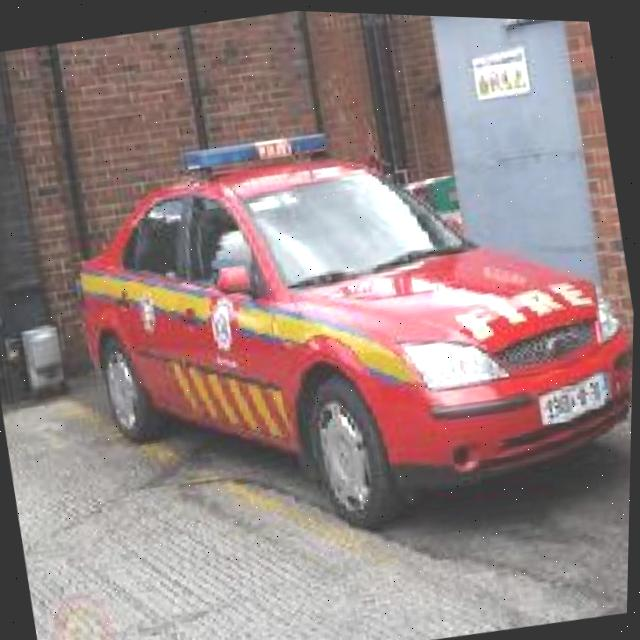emergency: (47, 70, 639, 579)
